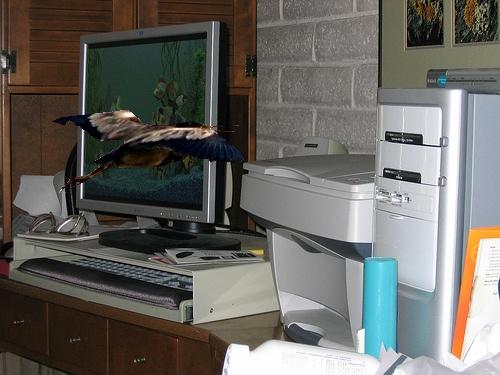tampered: (53, 111, 244, 194)
